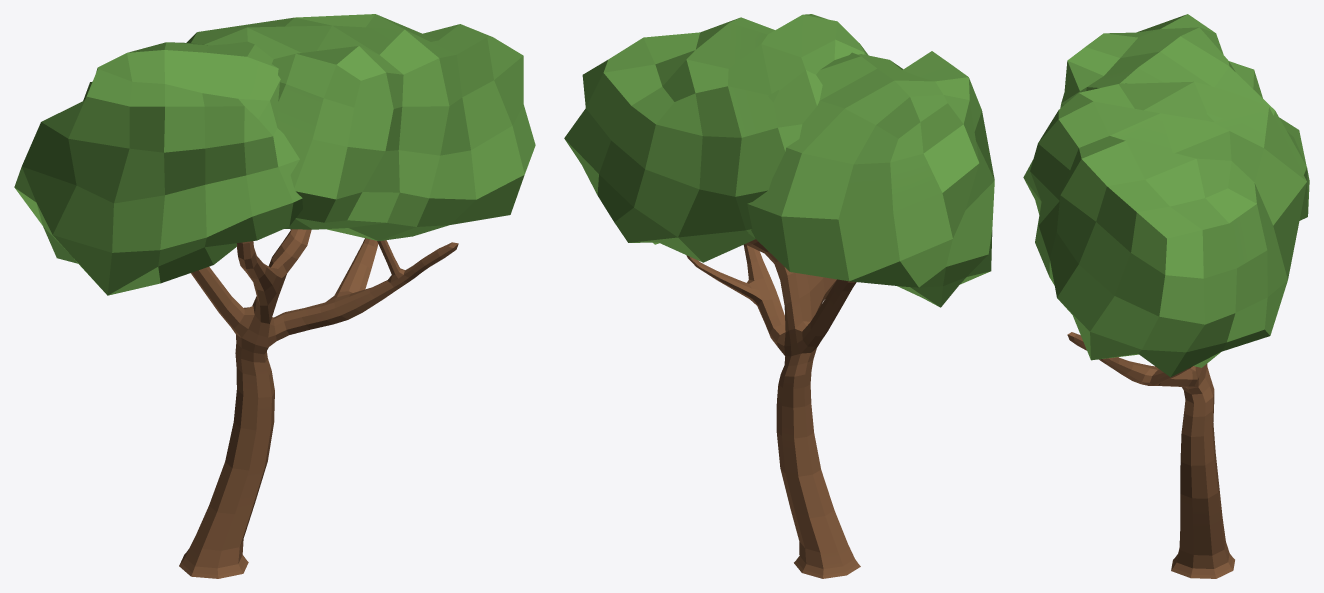
Rendered from CommonTree_5.glb.
The picture shows the model from 3 angles, left to right: view 1: azimuth 30°, elevation 25°; view 2: azimuth 150°, elevation 25°; view 3: azimuth 270°, elevation 25°; orthographic projection. The views are drawn at different scales.
Visible parts, largest first — view 1: CommonTree_5; view 2: CommonTree_5; view 3: CommonTree_5.
Part boxes in pixels (bbox=[...]): CommonTree_5: bbox=[14, 14, 535, 578]; CommonTree_5: bbox=[564, 14, 994, 578]; CommonTree_5: bbox=[1023, 14, 1309, 578].
Bounding box in the file's own units: 4.72 × 5.33 × 2.74.
